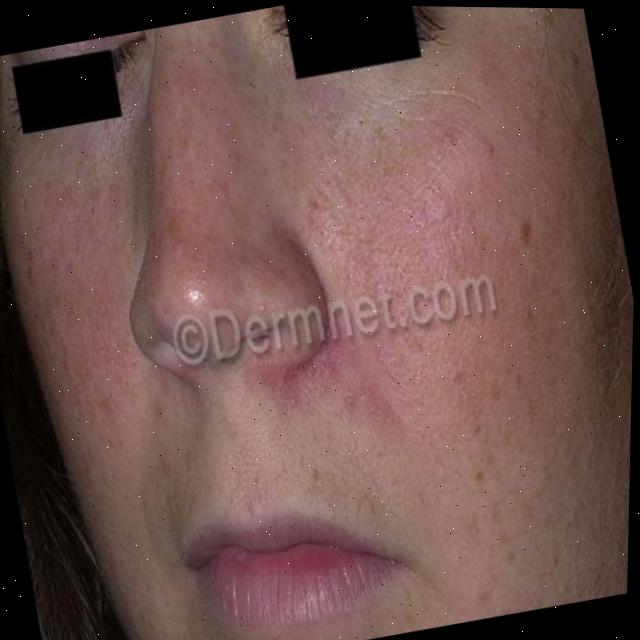Rosacea: (226, 93, 588, 486)
